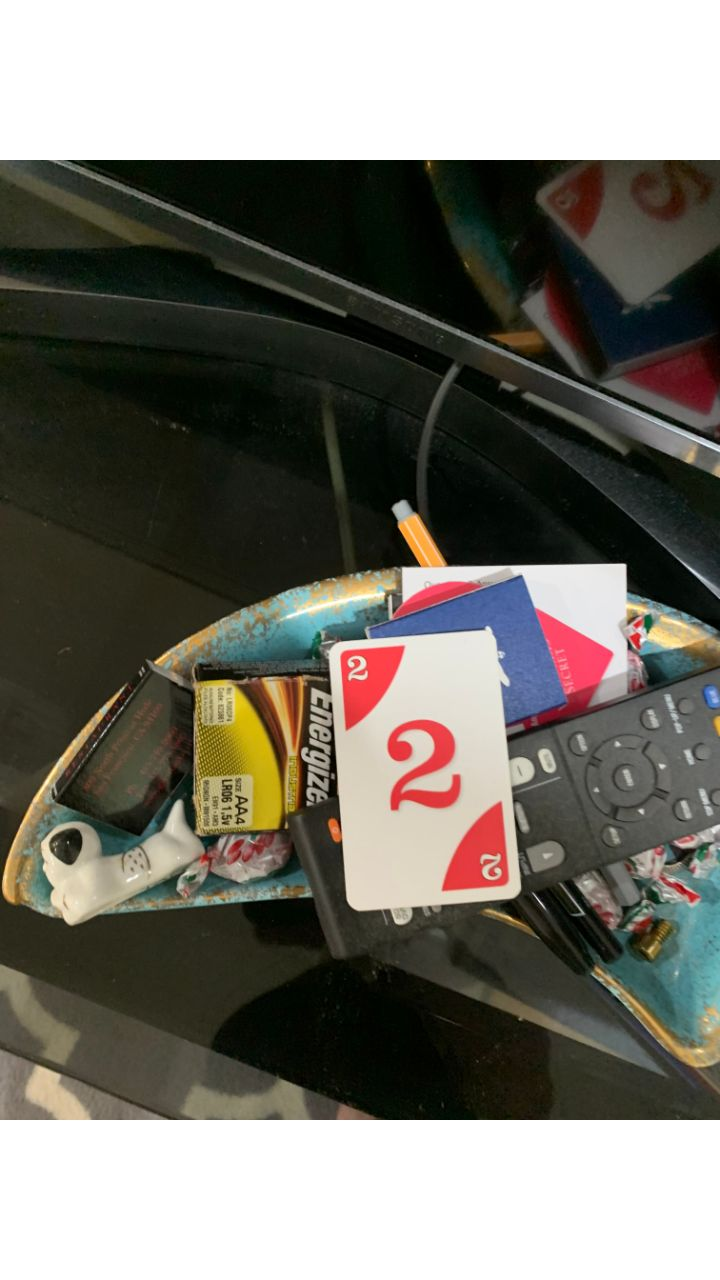two: (330, 628, 525, 913)
